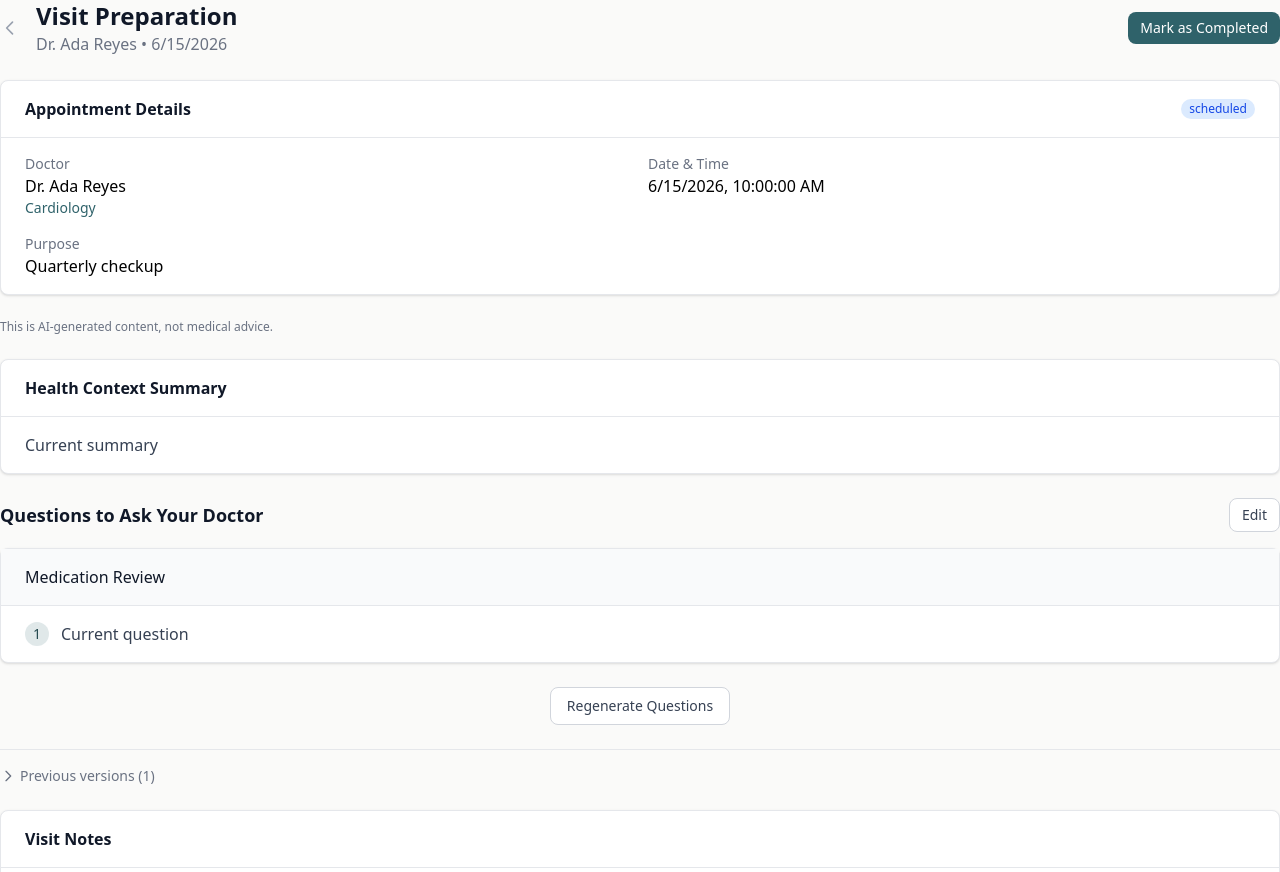
Test: VisitPrep previous-versions disclosure › marks a version that was the unreachable-backend placeholder
Step 1. Click the button "Previous versions (1)" → (77, 776), box [0,766,155,786]
(page scrolled)
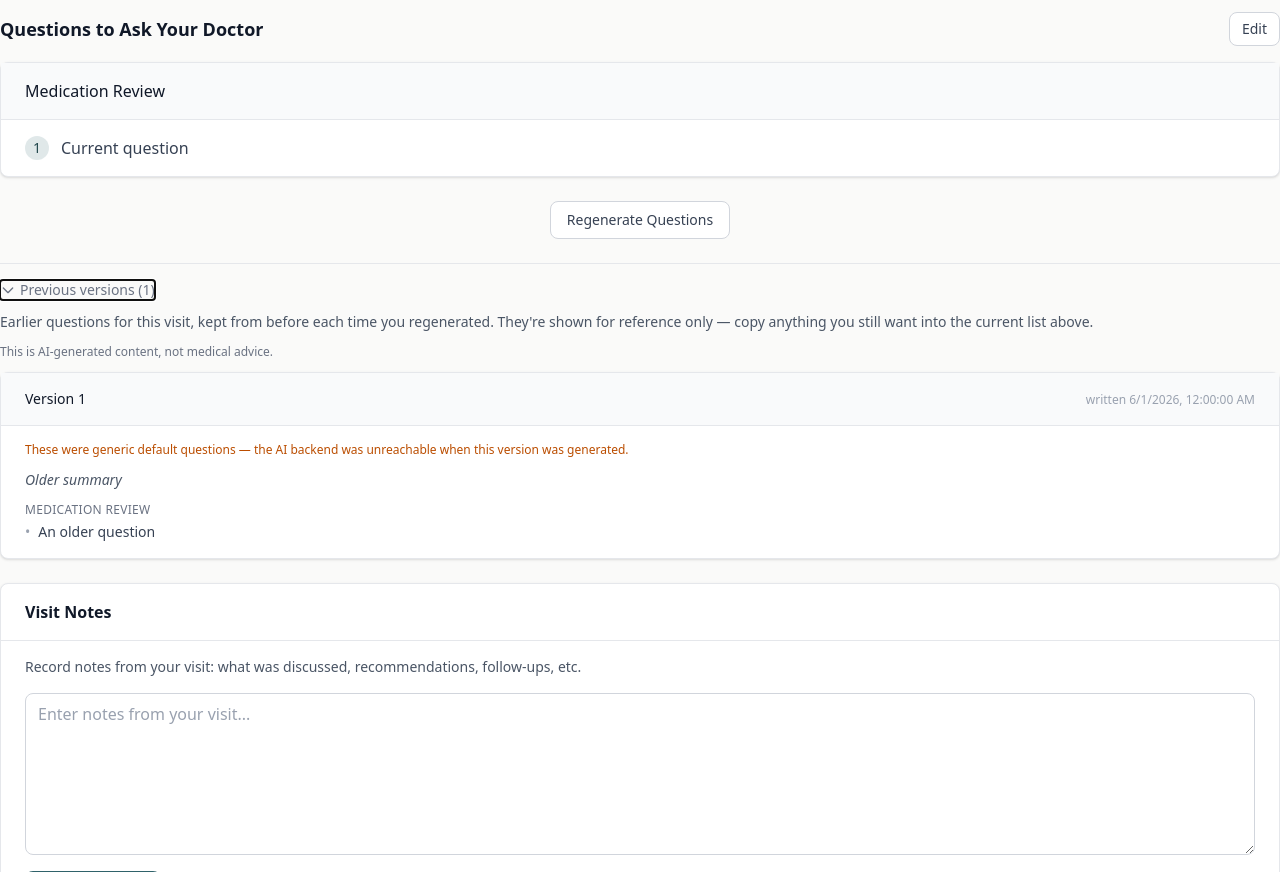
Check: the text "generic default questions" is shown, box [25,441,629,458]
